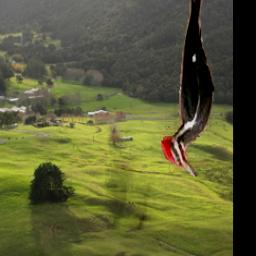Woodpecker: (106, 14, 160, 230), (159, 0, 214, 179)
